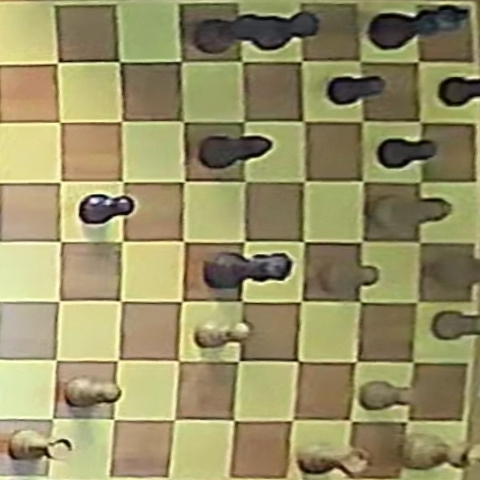black-bishop: (199, 135, 272, 169)
black-king: (370, 5, 469, 49)
black-pawn: (320, 260, 382, 293), (377, 137, 439, 168), (328, 75, 386, 106), (80, 194, 134, 225), (360, 380, 412, 410), (431, 310, 478, 340), (439, 75, 480, 107)
black-queen: (204, 252, 290, 287)
black-rook: (194, 8, 260, 55), (253, 12, 319, 50)
white-bishop: (368, 195, 453, 236)
white-king: (399, 433, 474, 470)
white-pawn: (65, 376, 120, 407), (196, 321, 252, 348)
white-queen: (431, 255, 480, 292)
white-rook: (298, 444, 369, 476), (9, 430, 72, 462)
